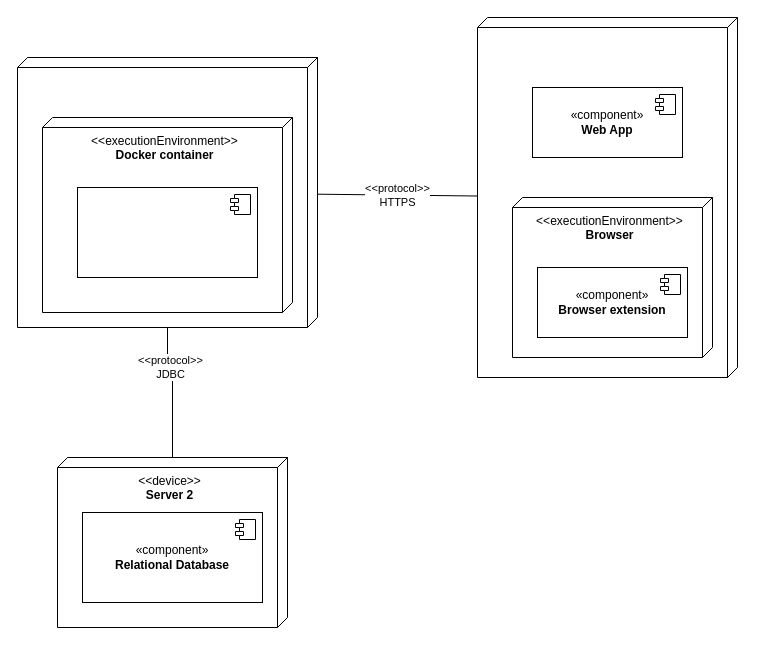
This 765x645 diagram has some shape labels left out. Each missing label, with the box of its shape:
<<device>> Server 1: (16, 56, 318, 328)
<<device>> User Device: (476, 16, 738, 378)
«component» Backend server: (76, 186, 258, 278)
